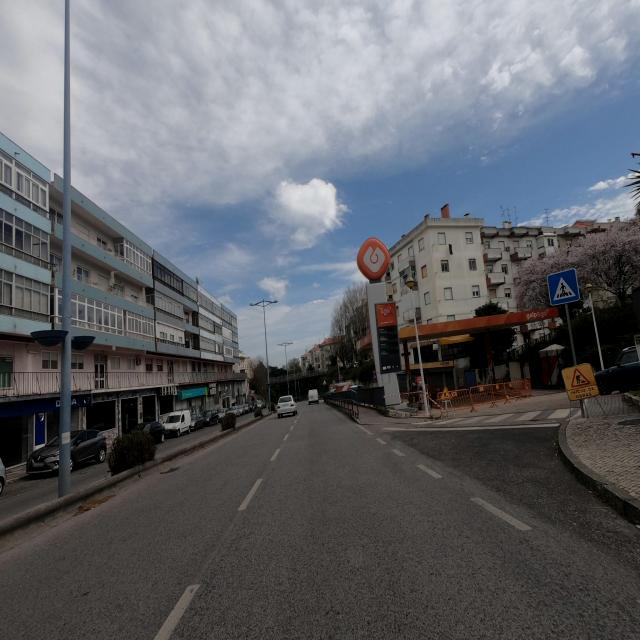car: (39, 428, 108, 477), (594, 348, 640, 397), (26, 433, 63, 477), (129, 420, 164, 444), (163, 410, 190, 438), (277, 395, 296, 418), (0, 448, 6, 496), (200, 409, 215, 427), (190, 412, 203, 431), (307, 388, 319, 404), (215, 406, 226, 422), (234, 404, 243, 416), (242, 403, 248, 415)
